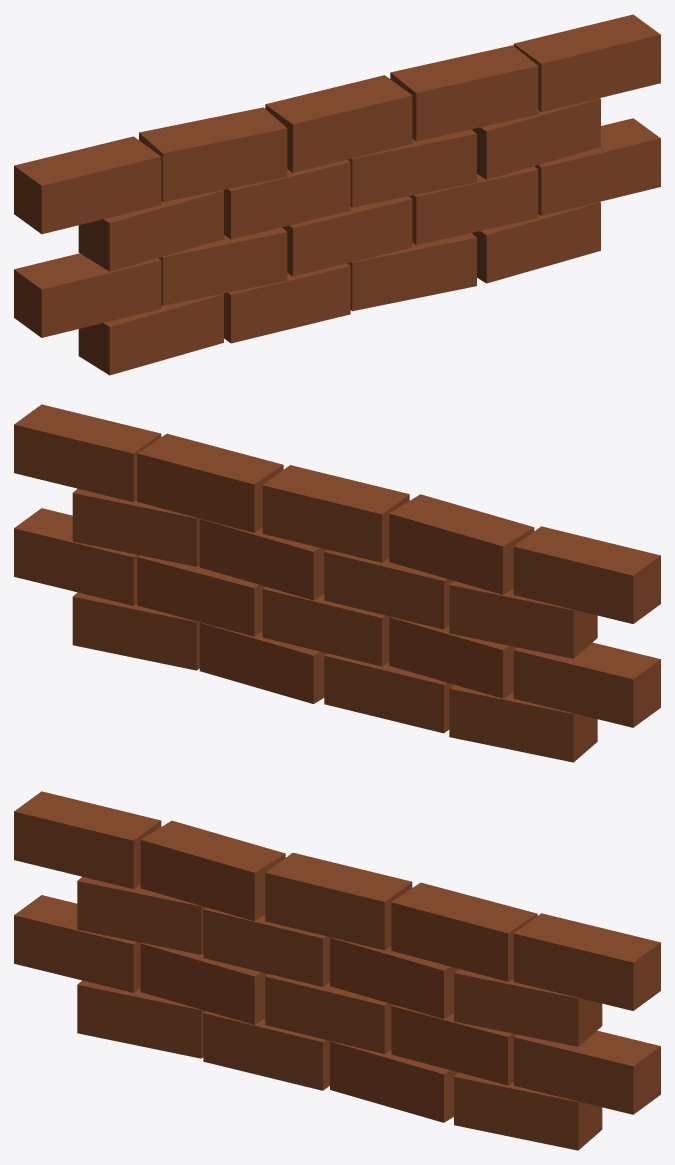
Rendered from Brick Wall 2.glb.
3 views of the same model, one above another, from view 1: azimuth 30°, elevation 25°; view 2: azimuth 150°, elevation 25°; view 3: azimuth 330°, elevation 25° (orthographic).
Parts seen in each view (by area): view 1: BrickWall_2; view 2: BrickWall_2; view 3: BrickWall_2.
Boxes of the visible parts, box(x1,y1,x2,y2) form: BrickWall_2: box(14, 14, 660, 375); BrickWall_2: box(14, 404, 660, 762); BrickWall_2: box(14, 791, 660, 1150).
Size of the model in its own units: 2.24 by 0.7039 by 0.206.
